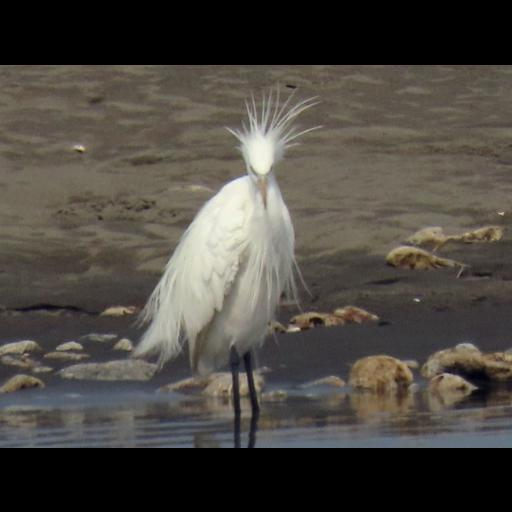chinese_egret: (132, 82, 324, 416)
